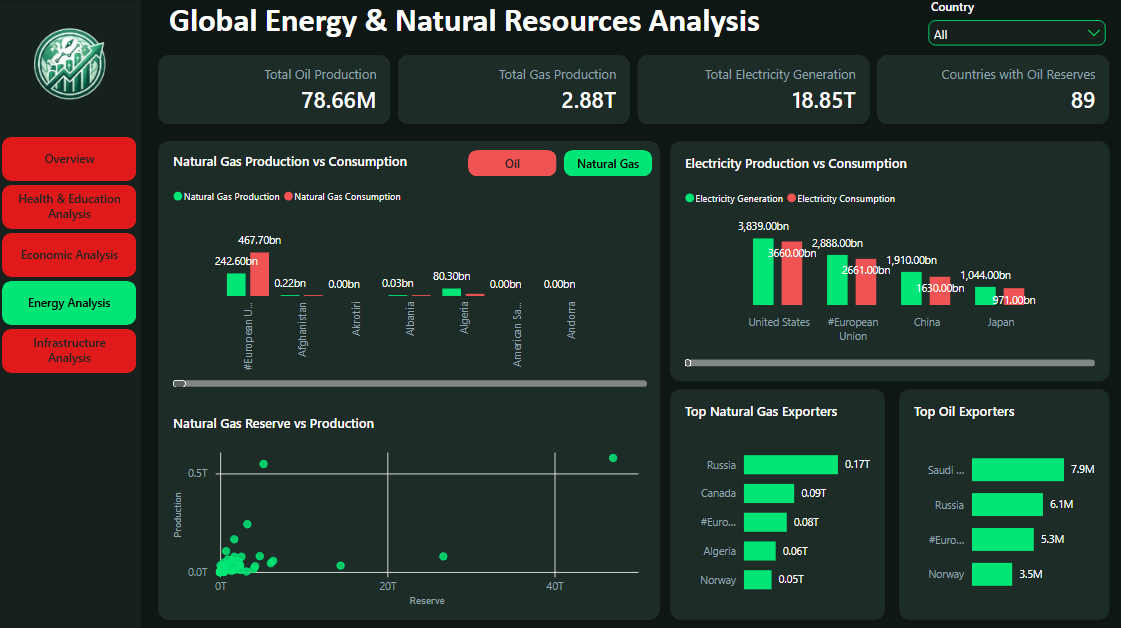

The page's visual inventory and layout, read from the dashboard file:
{"tool":"powerbi","page":{"name":" Energy Analysis","canvas":[1280,720],"ordinal":3},"visuals":[{"type":"clusteredColumnChart","title":"Natural Gas Production vs Consumption","fields":{"Category":["Dim Country.Country"],"Y":["DAX Measures.Total Gas Production","DAX Measures.Total Gas Consumption"]},"box":[182.9,161.1,571.9,297.3],"z":0,"group":"g1"},{"type":"shape","box":[182.3,161.8,571.9,545.7],"z":0},{"type":"clusteredColumnChart","title":"Electricity Production vs Consumption","fields":{"Category":["Dim Country.Country"],"Y":["DAX Measures.Total Electricity Generation","DAX Measures.Total Electricity Consumption"]},"box":[765.3,161.7,501.2,273.5],"z":1000},{"type":"scatterChart","title":"Natural Gas Reserve vs Production","fields":{"Category":["Dim Country.Country"],"X":["Sum(Fact Energy Resources.Natural gas - proved reserves(cu m))"],"Y":["DAX Measures.Total Gas Production"]},"box":[183.3,459.5,571.9,248.4],"z":1000,"group":"g1"},{"type":"shape","box":[0,0,163,719.5],"z":2000},{"type":"textbox","box":[194.8,0,702.9,51.3],"z":3000},{"type":"cardVisual","fields":{"Data":["DAX Measures.Total Oil Production","DAX Measures.Total Gas Production","DAX Measures.Total Electricity Generation","DAX Measures.Countries with Oil Reserves"]},"box":[182.3,63.8,1084.6,79.7],"z":4000},{"type":"image","box":[21.6,0,119.9,172.5],"z":5000},{"type":"slicer","fields":{"Values":["Dim Country.Country"]},"box":[1054.9,0,211.9,60.4],"z":6000},{"type":"group","id":"g1","title":"Gas Charts","box":[182.9,161.1,572.3,546.7],"z":7000},{"type":"bookmarkNavigator","box":[535.4,172,210.2,31],"z":9000},{"type":"barChart","title":"Top Natural Gas Exporters","fields":{"Category":["Dim Country.Country"],"Y":["Sum(Fact Energy Resources.Natural gas - exports(cu m))"]},"box":[765.3,444.6,245,262.7],"z":10000},{"type":"barChart","title":"Top Oil Exporters","fields":{"Category":["Dim Country.Country"],"Y":["Sum(Fact Energy Resources.Oil - exports(bbl/day))"]},"box":[1026.7,444.6,240,262.7],"z":11000},{"type":"pageNavigator","box":[4.6,157.2,153.8,50.1],"z":12000},{"type":"pageNavigator","box":[4.6,211.9,153.8,50.1],"z":13000},{"type":"pageNavigator","box":[4.6,266.6,153.8,50.1],"z":14000},{"type":"pageNavigator","box":[4.6,321.3,153.8,50.1],"z":15000},{"type":"pageNavigator","box":[4.6,375.9,153.8,50.1],"z":16000}]}

Visuals, with their boxes in screenshot pixels (x1, y1, x2, y2), scaled from the page's 1280x720 canvas onto the 1121x628 screenshot:
"Natural Gas Production vs Consumption" clusteredColumnChart: bbox(160, 141, 661, 400)
shape: bbox(160, 141, 661, 617)
"Electricity Production vs Consumption" clusteredColumnChart: bbox(670, 141, 1109, 380)
"Natural Gas Reserve vs Production" scatterChart: bbox(161, 401, 661, 617)
shape: bbox(0, 0, 143, 627)
textbox: bbox(171, 0, 786, 45)
cardVisual - DAX Measures.Total Oil Production x DAX Measures.Total Gas Production: bbox(160, 56, 1110, 125)
image: bbox(19, 0, 124, 150)
slicer - Dim Country.Country: bbox(924, 0, 1109, 53)
"Gas Charts" group: bbox(160, 141, 661, 617)
bookmarkNavigator: bbox(469, 150, 653, 177)
"Top Natural Gas Exporters" barChart: bbox(670, 388, 885, 617)
"Top Oil Exporters" barChart: bbox(899, 388, 1109, 617)
pageNavigator: bbox(4, 137, 139, 181)
pageNavigator: bbox(4, 185, 139, 229)
pageNavigator: bbox(4, 233, 139, 276)
pageNavigator: bbox(4, 280, 139, 324)
pageNavigator: bbox(4, 328, 139, 372)
